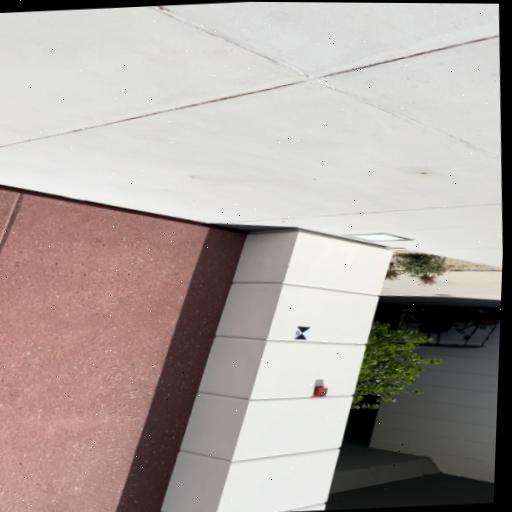target6: (293, 326, 312, 340)
